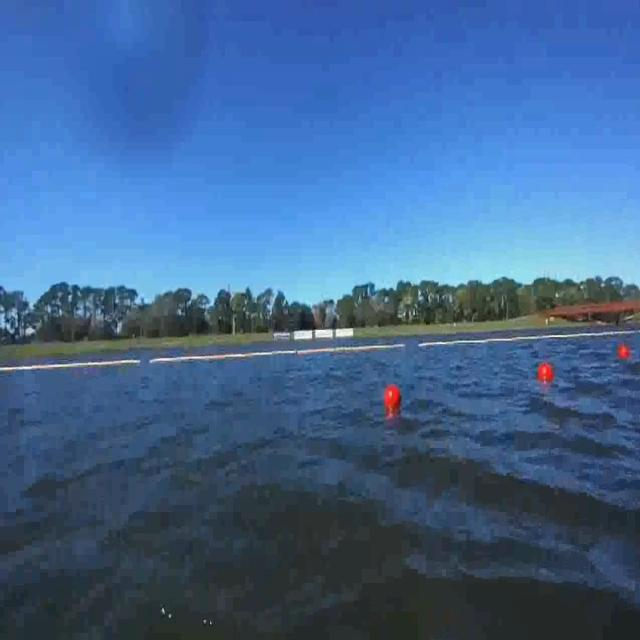red-buoy: (382, 384, 398, 408), (540, 362, 555, 384), (618, 344, 631, 360)
